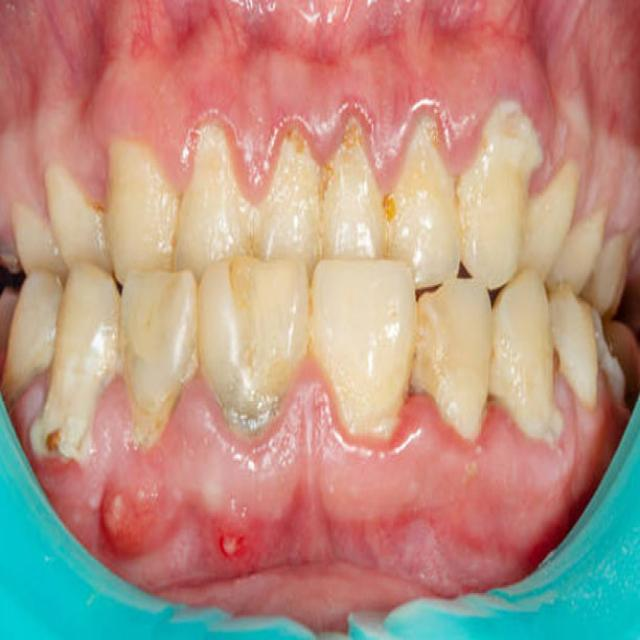caries: (592, 314, 630, 402), (543, 335, 576, 386)
